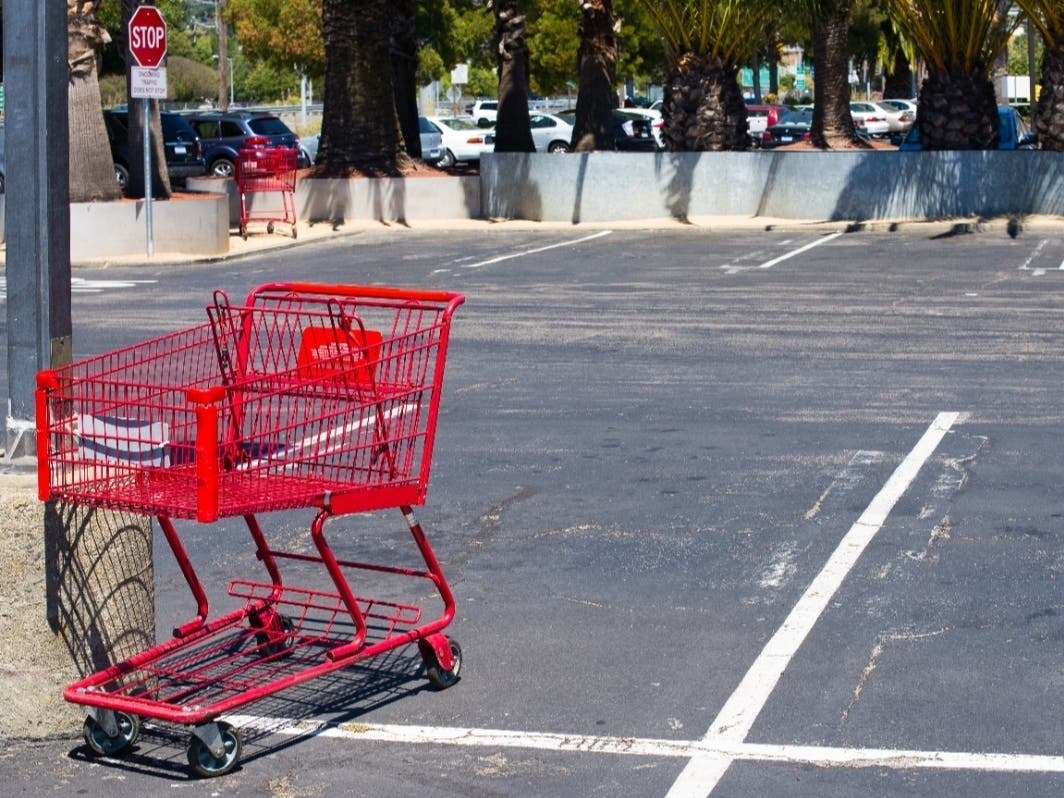shopping_cart: (26, 273, 516, 773)
